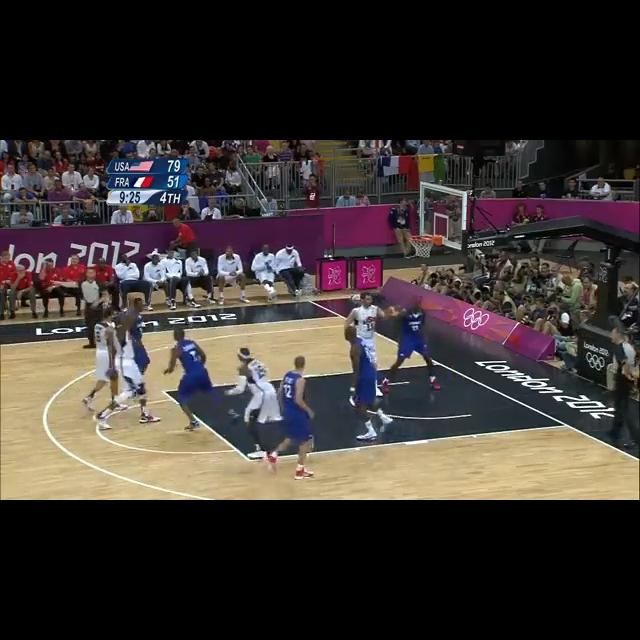basketball: (386, 307, 401, 318)
hoop: (410, 236, 433, 256)
